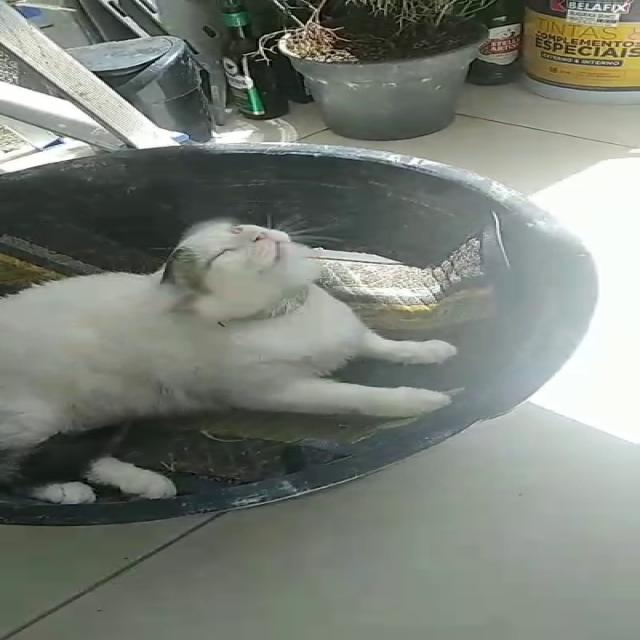Simba: (2, 200, 474, 492)
